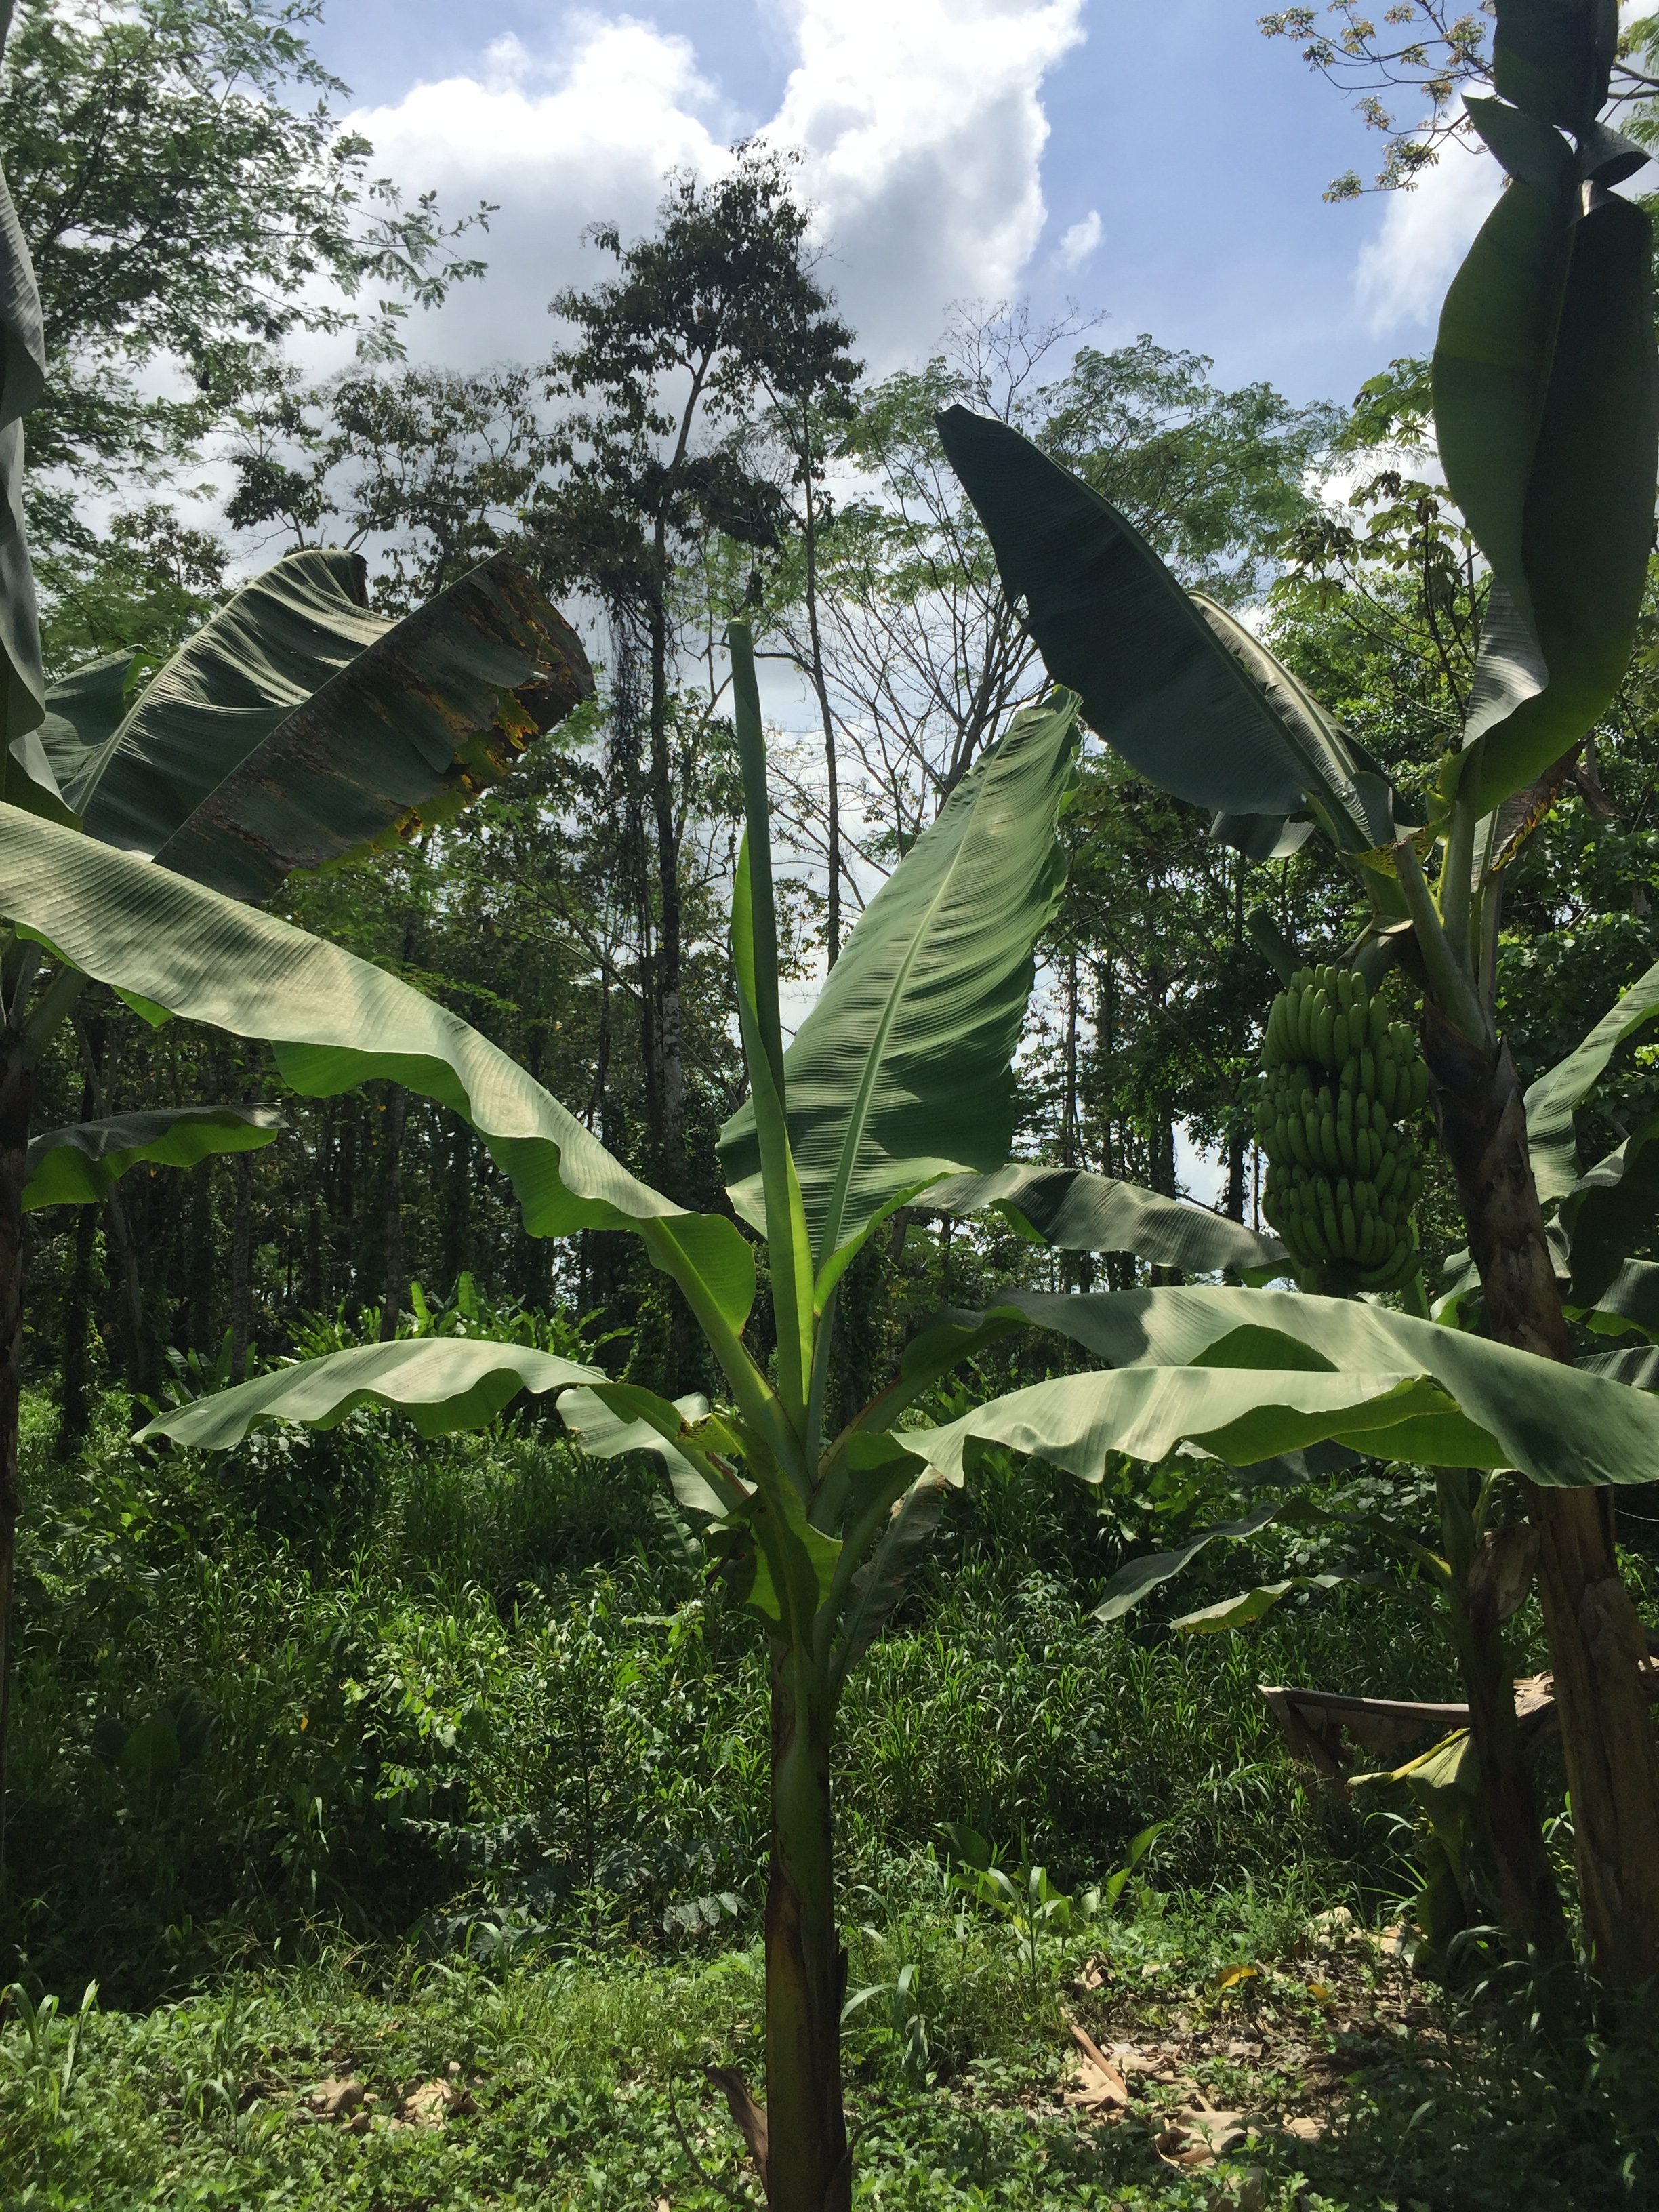candleleafs: (723, 617, 814, 1432)
